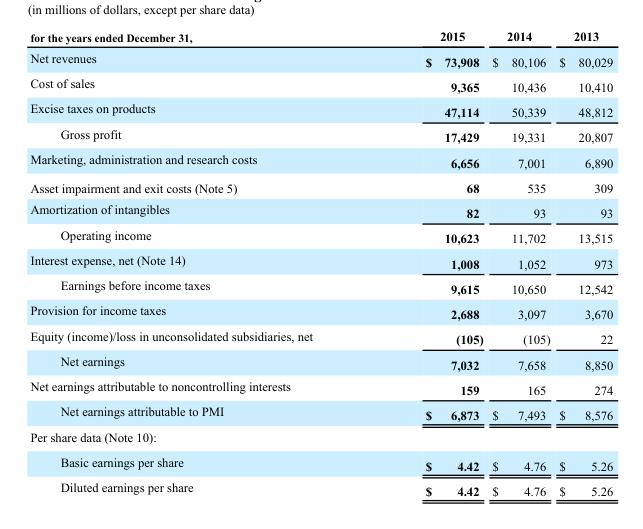table: (29, 29, 612, 497)
table column: (29, 29, 368, 497), (368, 29, 487, 497), (487, 29, 554, 497), (554, 29, 612, 497)
table column header: (29, 29, 612, 46)
table projected row header: (29, 425, 612, 449)
table row: (29, 147, 612, 175), (29, 449, 612, 476), (29, 46, 612, 72), (29, 248, 612, 274), (29, 349, 612, 375), (29, 72, 612, 97), (29, 97, 612, 122), (29, 122, 612, 147), (29, 198, 612, 223), (29, 223, 612, 248), (29, 274, 612, 299), (29, 299, 612, 324), (29, 324, 612, 349), (29, 375, 612, 400), (29, 400, 612, 425), (29, 425, 612, 449), (29, 175, 612, 198), (29, 476, 612, 497), (29, 29, 612, 46)
